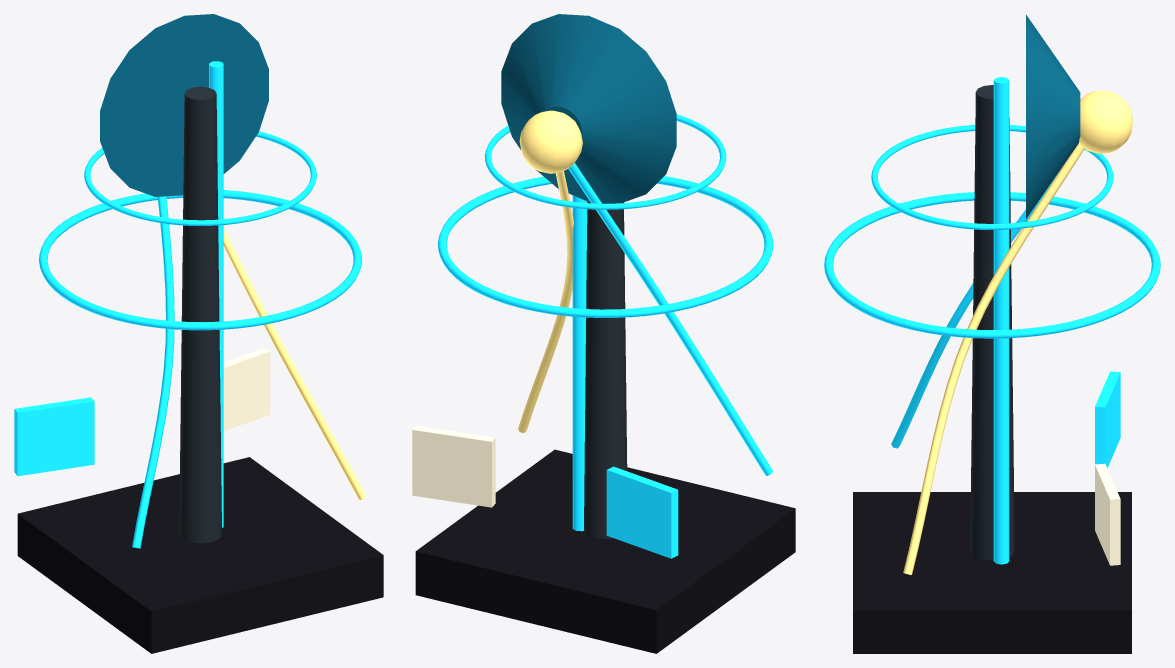
The model's file is telemetry-radar-mast.glb.
3 views of the same model, side by side, from view 1: azimuth 30°, elevation 25°; view 2: azimuth 150°, elevation 25°; view 3: azimuth 270°, elevation 25° (orthographic). The views are drawn at different scales.
Parts seen in each view (by area): view 1: radar-base, radar-dish, mast-core, scan-ring, signal-panel-left, signal-panel-right, trace-beam-a, trace-beam-b, mast-glow, upper-scan-ring; view 2: radar-base, radar-dish, mast-core, signal-panel-right, scan-ring, signal-panel-left, mast-glow, trace-beam-a, radar-node, upper-scan-ring, trace-beam-b; view 3: radar-base, mast-core, mast-glow, radar-dish, scan-ring, trace-beam-b, upper-scan-ring, radar-node, signal-panel-right, signal-panel-left, trace-beam-a.
Part boxes in pixels (x1,y1,x2,y2): radar-base: [17, 457, 383, 653]; radar-dish: [100, 14, 268, 196]; mast-core: [179, 86, 221, 543]; scan-ring: [39, 190, 362, 330]; signal-panel-left: [14, 397, 94, 476]; signal-panel-right: [223, 348, 270, 431]; trace-beam-a: [132, 196, 174, 548]; trace-beam-b: [223, 227, 365, 499]; mast-glow: [209, 61, 223, 527]; upper-scan-ring: [84, 131, 316, 225]; radar-base: [415, 449, 795, 653]; radar-dish: [501, 14, 676, 203]; mast-core: [584, 201, 627, 539]; signal-panel-right: [412, 425, 495, 507]; scan-ring: [438, 176, 773, 317]; signal-panel-left: [606, 466, 678, 558]; mast-glow: [572, 195, 587, 531]; trace-beam-a: [568, 163, 772, 475]; radar-node: [519, 110, 582, 173]; upper-scan-ring: [485, 114, 726, 209]; trace-beam-b: [518, 171, 573, 432]; radar-base: [853, 492, 1131, 653]; mast-core: [970, 85, 1014, 560]; mast-glow: [993, 77, 1009, 564]; radar-dish: [1026, 14, 1080, 218]; scan-ring: [824, 192, 1160, 338]; trace-beam-b: [903, 143, 1084, 574]; upper-scan-ring: [871, 125, 1113, 229]; radar-node: [1078, 90, 1132, 153]; signal-panel-right: [1095, 463, 1120, 565]; signal-panel-left: [1095, 371, 1120, 468]; trace-beam-a: [891, 171, 1059, 448].
Size of the model in its own units: 1.11 by 2.08 by 1.11.
